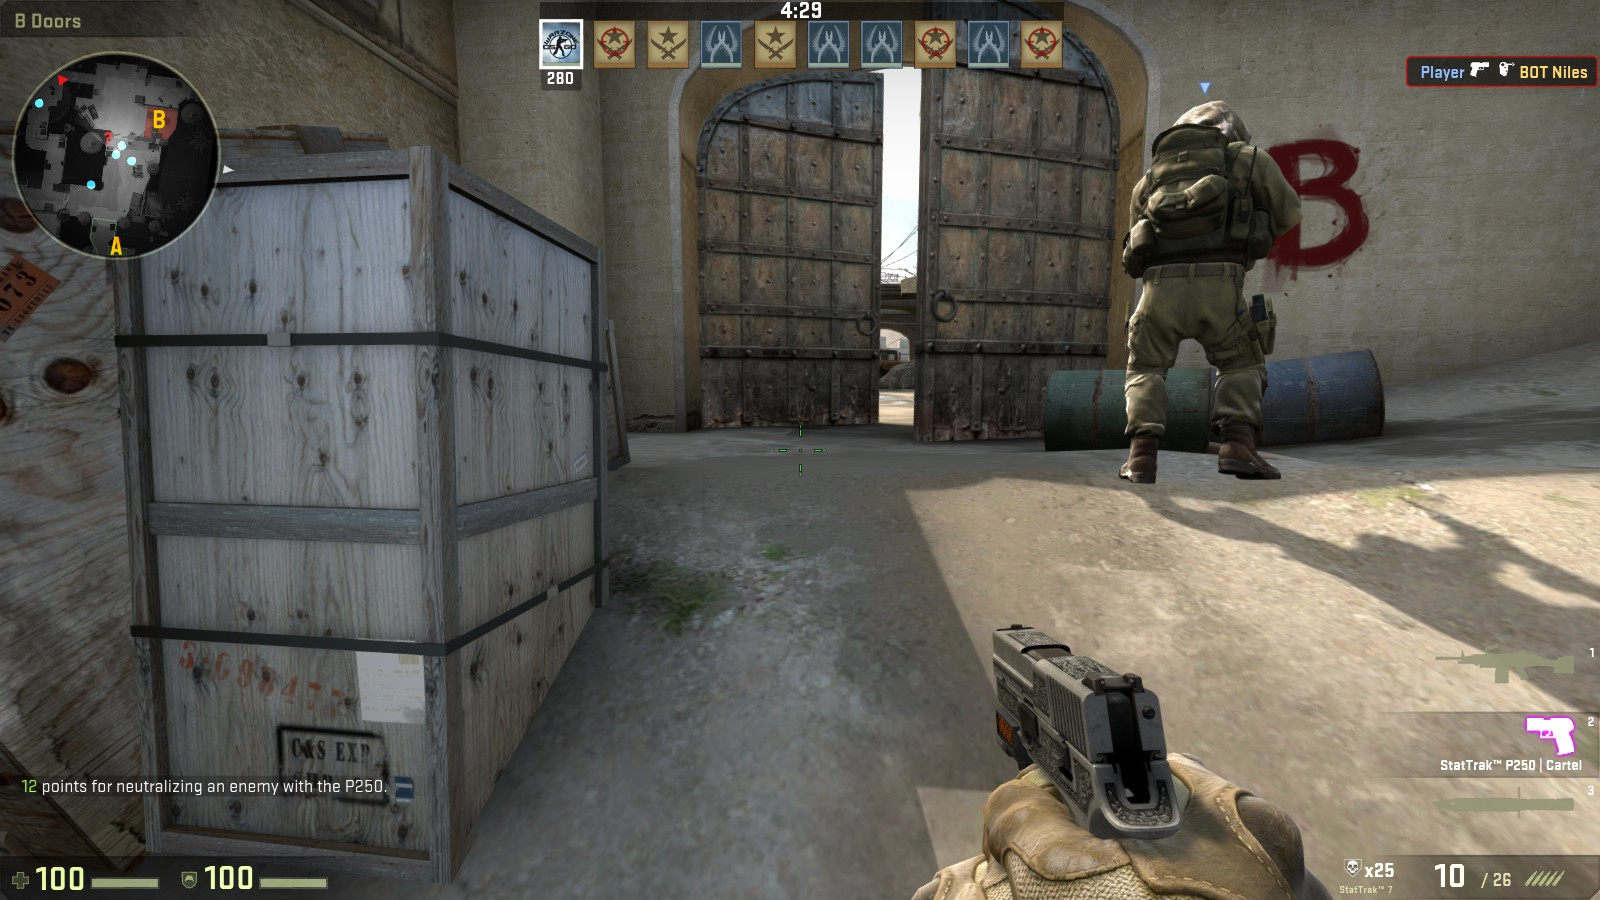c: (1118, 92, 1309, 486)
ch: (1165, 95, 1259, 158)
